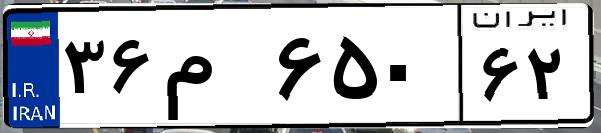0: (385, 28, 445, 110)
2: (525, 38, 570, 115)
3: (57, 26, 110, 100)
5: (330, 28, 385, 110)
6: (270, 28, 330, 110), (475, 38, 525, 113), (110, 28, 158, 98)
م: (158, 20, 270, 120)
